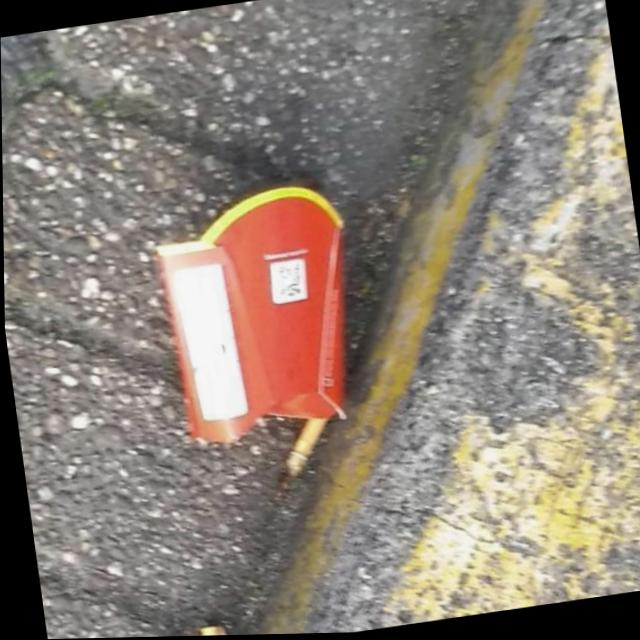Paper: (143, 174, 373, 454)
